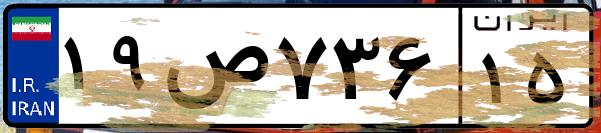1: (57, 26, 110, 100), (475, 38, 525, 113)
3: (330, 28, 385, 110)
5: (525, 38, 570, 115)
6: (385, 28, 445, 110)
7: (270, 28, 330, 110)
9: (110, 28, 158, 98)
ص: (158, 20, 270, 120)
